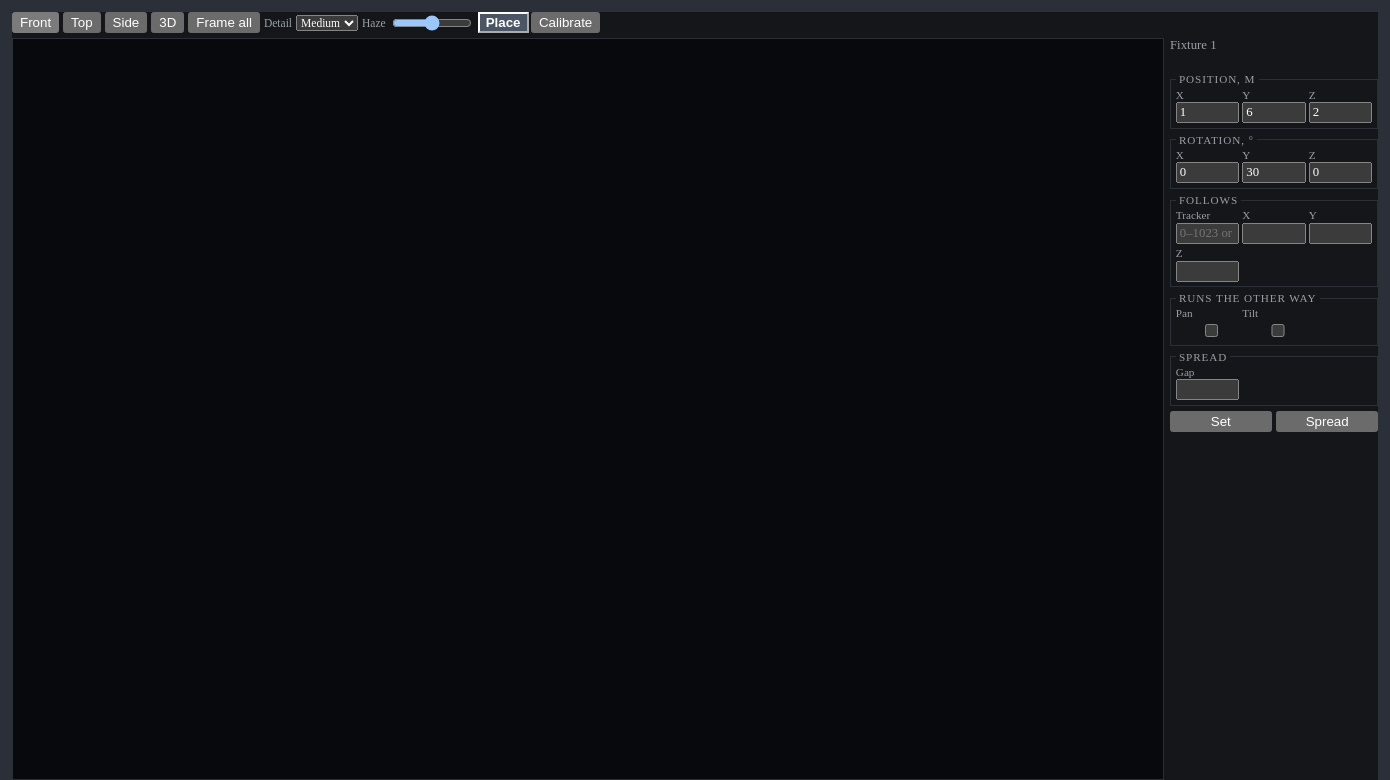
Scenario: the target › is the one head selected, and the panel says so
This screenshot has width=1390, height=780.
Click the button with test id "viewer-panel-calibrate" at [566, 22], box [531,12,600,33]
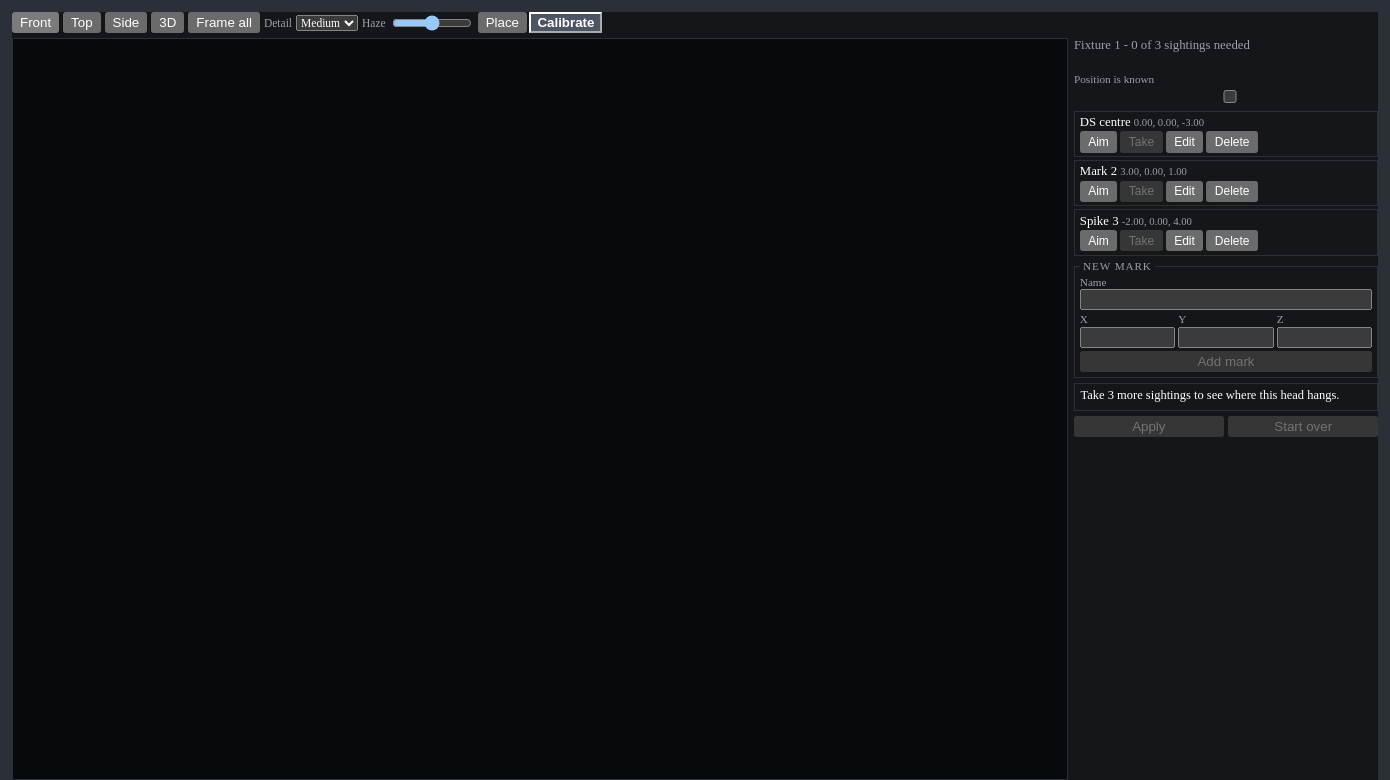
Result: the text with test id "calibration-target" shows "Fixture 1" at [1074,38,1250,52]
Result: the text with test id "calibration-target" shows "0 of 3 sightings needed" at [1074,38,1250,52]
